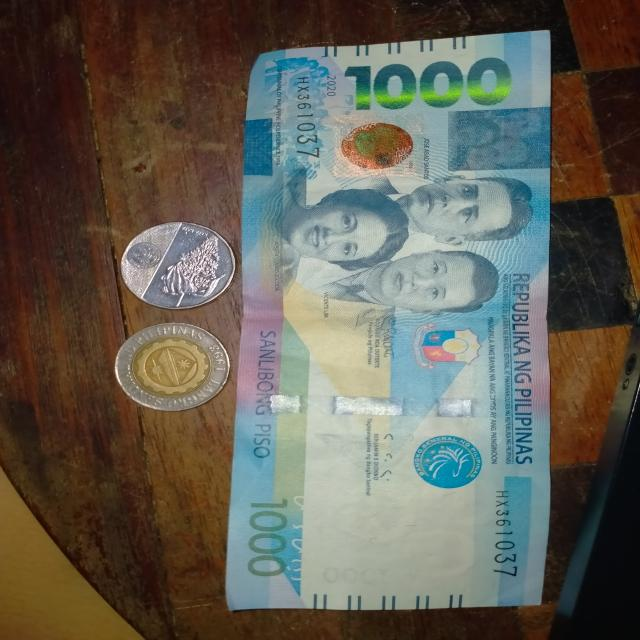concealed_value: (447, 106, 553, 169)
optically_variable_device: (328, 110, 428, 174)
see_through_mark: (283, 482, 321, 596)
value_watermark: (317, 558, 400, 596)
